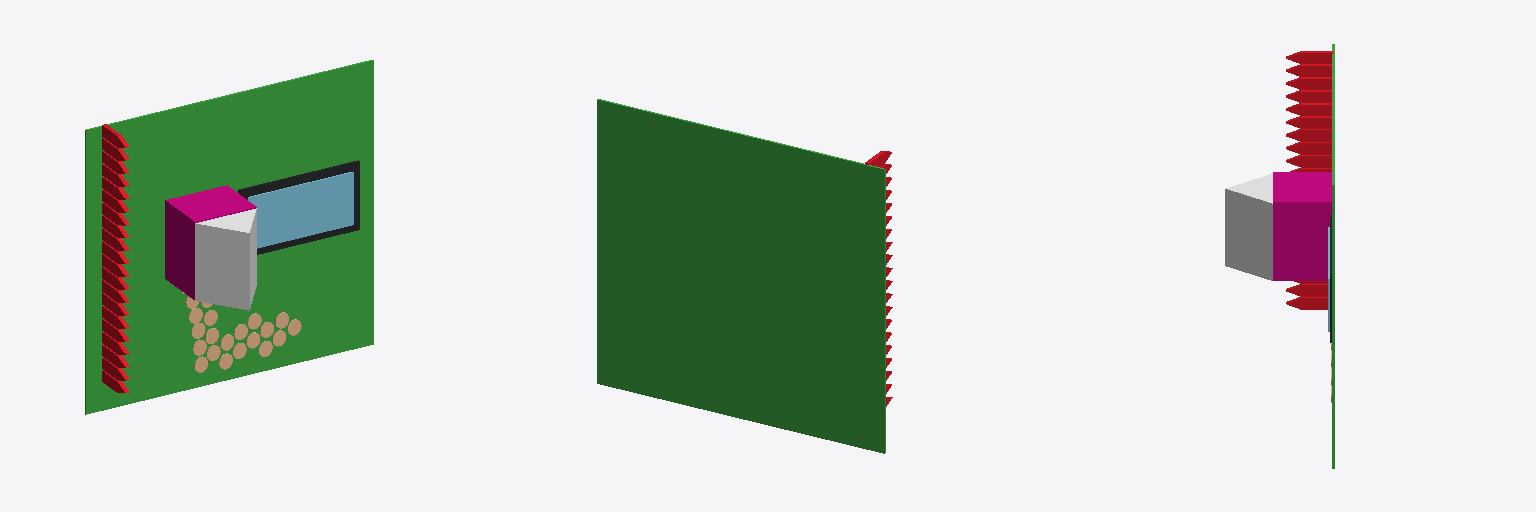
The model's file is tinker.obj.
3 views of the same model, side by side, from view 1: azimuth 30°, elevation 25°; view 2: azimuth 150°, elevation 25°; view 3: azimuth 270°, elevation 25° (orthographic).
Parts seen in each view (by area): view 1: obj_0; view 2: obj_0; view 3: obj_0.
Part boxes in pixels (left/top/right/bottom): obj_0: left=85, top=60, right=373, bottom=414; obj_0: left=597, top=99, right=892, bottom=453; obj_0: left=1225, top=44, right=1334, bottom=468.
Bounding box in the file's own units: 210 × 199 × 69.